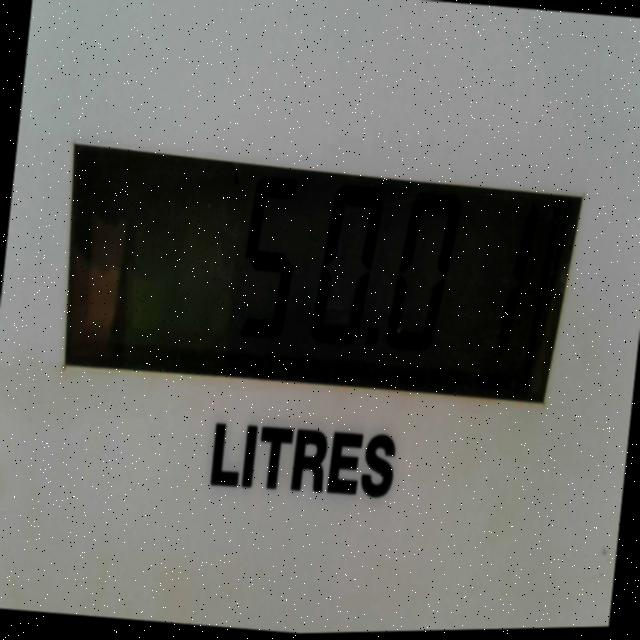.: (368, 333, 380, 353)
0: (307, 182, 385, 358), (382, 185, 460, 356), (502, 197, 542, 361)
5: (239, 179, 303, 350)
